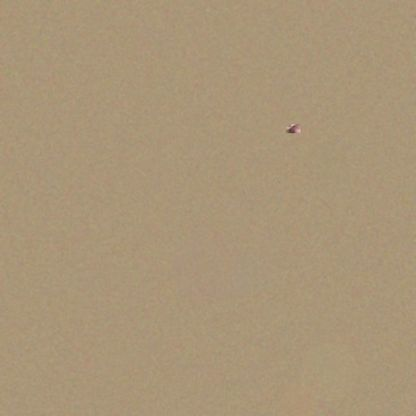sprouted: (286, 124, 301, 133)
